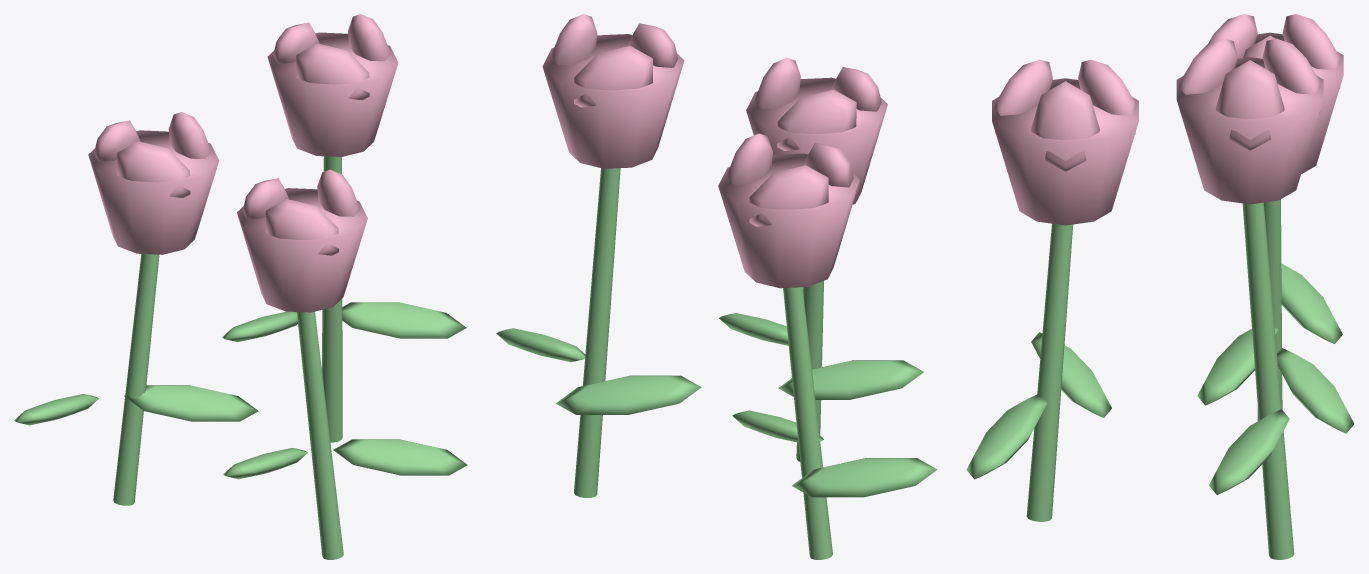
File: flower_0_spring.glb
The picture shows the model from 3 angles, left to right: view 1: azimuth 30°, elevation 25°; view 2: azimuth 150°, elevation 25°; view 3: azimuth 270°, elevation 25°; orthographic projection. The views are drawn at different scales.
Size of the model in its own units: 0.5021 by 0.5028 by 0.3362.
